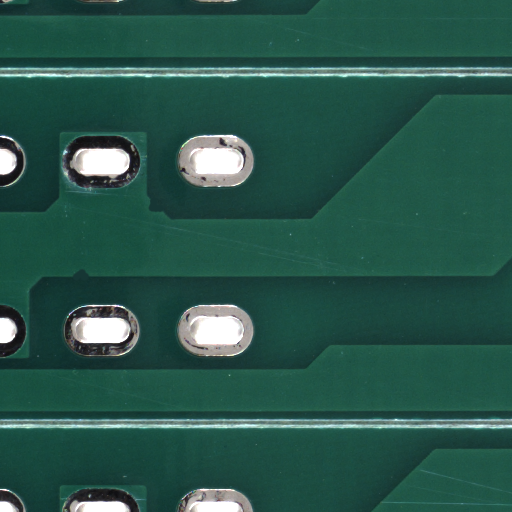Mouse_bite: (156, 205, 173, 219), (81, 273, 98, 283)
